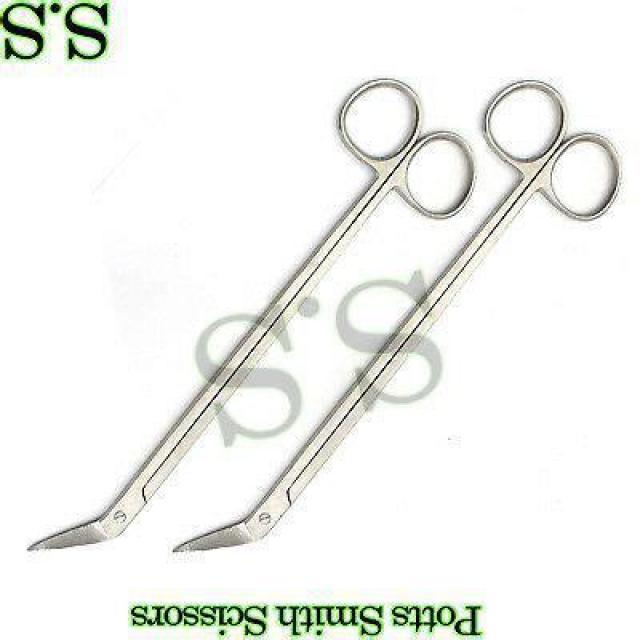Potts: (170, 77, 626, 557), (24, 77, 480, 556)
